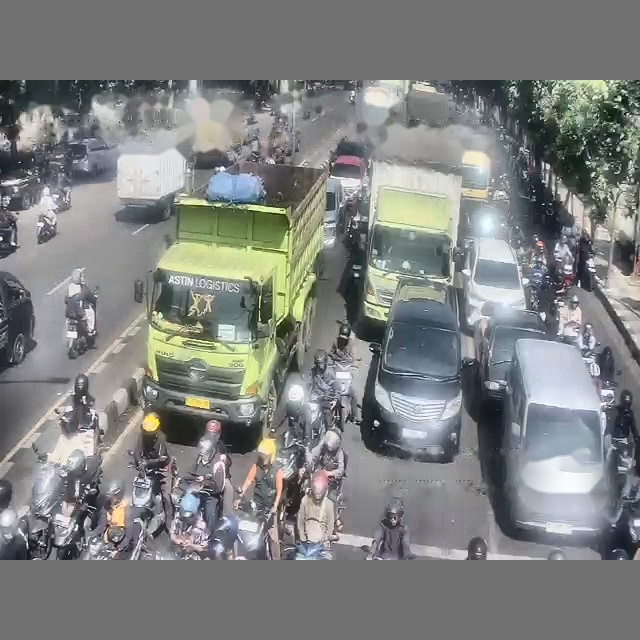Mobil: (362, 289, 473, 461), (474, 307, 549, 404), (461, 238, 527, 330), (0, 271, 35, 365), (392, 277, 458, 317), (461, 205, 508, 247), (0, 166, 42, 210), (330, 155, 367, 199), (324, 178, 345, 246), (331, 138, 370, 171)
Motor: (27, 445, 100, 559), (128, 450, 177, 558), (332, 359, 357, 431), (66, 305, 96, 359), (36, 214, 56, 243)
Truk: (134, 161, 326, 436), (360, 140, 461, 325), (116, 144, 186, 220)
